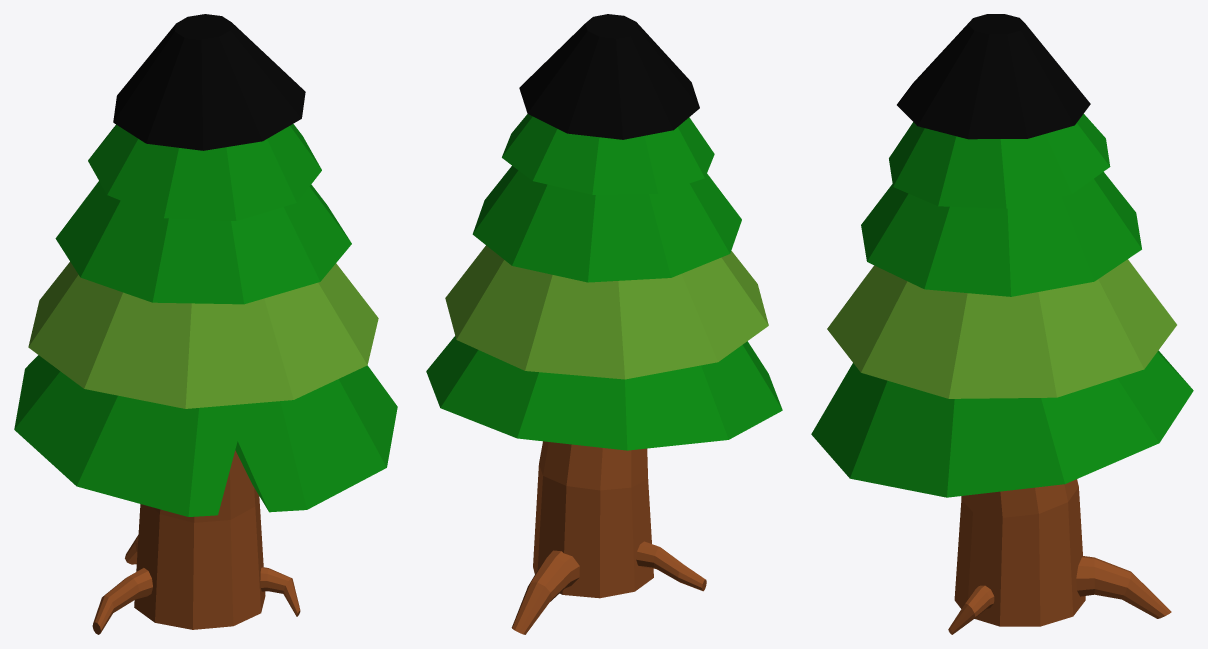
File: low poly tree1 .fbx
3 views of the same model, side by side, from view 1: azimuth 30°, elevation 25°; view 2: azimuth 150°, elevation 25°; view 3: azimuth 270°, elevation 25° (orthographic). The views are drawn at different scales.
Visible parts, largest first — view 1: Cylinder.002; view 2: Cylinder.002; view 3: Cylinder.002.
Boxes of the visible parts, x1,y1,x2,y2 form: Cylinder.002: (14, 14, 397, 634); Cylinder.002: (426, 14, 782, 634); Cylinder.002: (811, 14, 1193, 634).
Bounding box in the file's own units: 623 × 1099 × 647.
